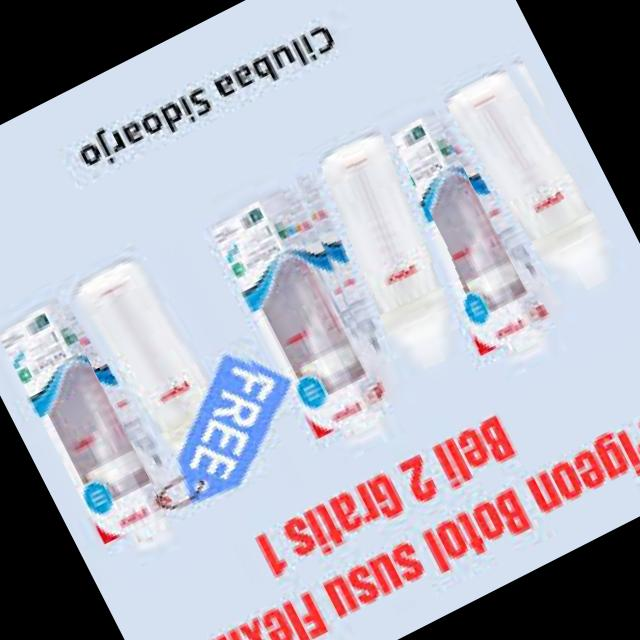plastic bottle: (42, 201, 296, 505), (268, 118, 497, 403), (419, 30, 640, 321)
